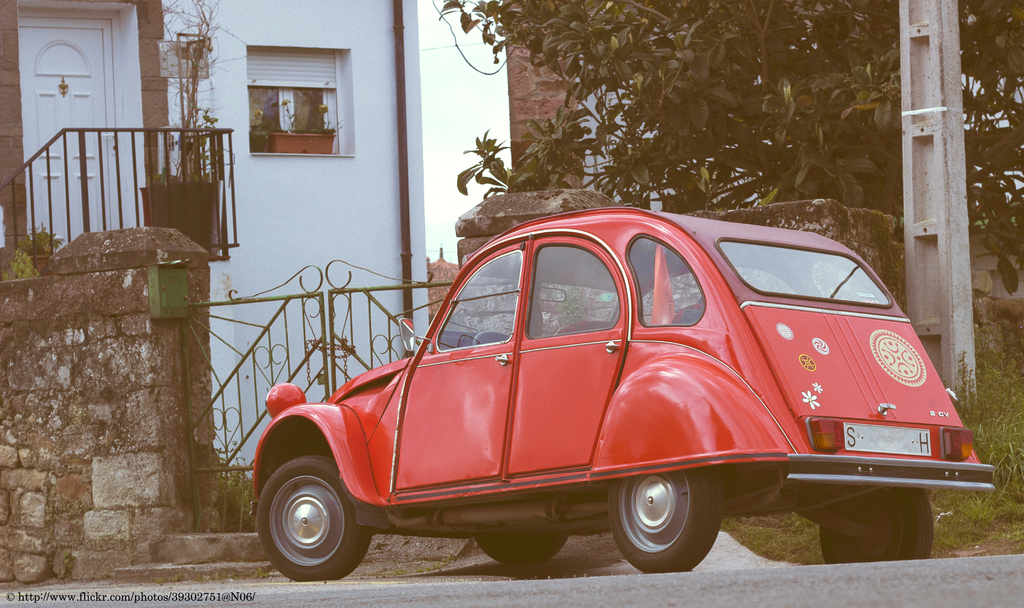Car: (237, 204, 990, 582)
